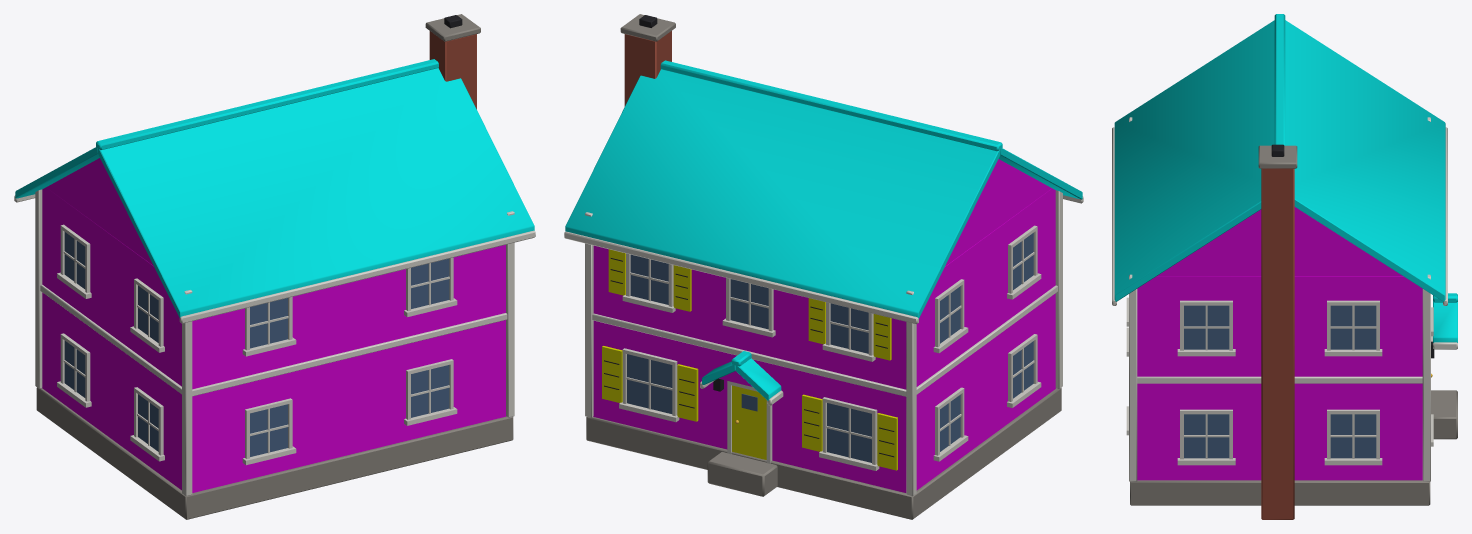
Rendered from House_TwoStorey.fbx.
The picture shows the model from 3 angles, left to right: view 1: azimuth 30°, elevation 25°; view 2: azimuth 150°, elevation 25°; view 3: azimuth 270°, elevation 25°; orthographic projection.
Visible parts, largest first — view 1: House_TwoStorey; view 2: House_TwoStorey; view 3: House_TwoStorey.
Boxes of the visible parts, bbox=[...] form: House_TwoStorey: bbox=[14, 14, 535, 519]; House_TwoStorey: bbox=[564, 14, 1083, 519]; House_TwoStorey: bbox=[1112, 14, 1457, 519].
Size of the model in its own units: 10.42 by 9.74 by 8.36.
